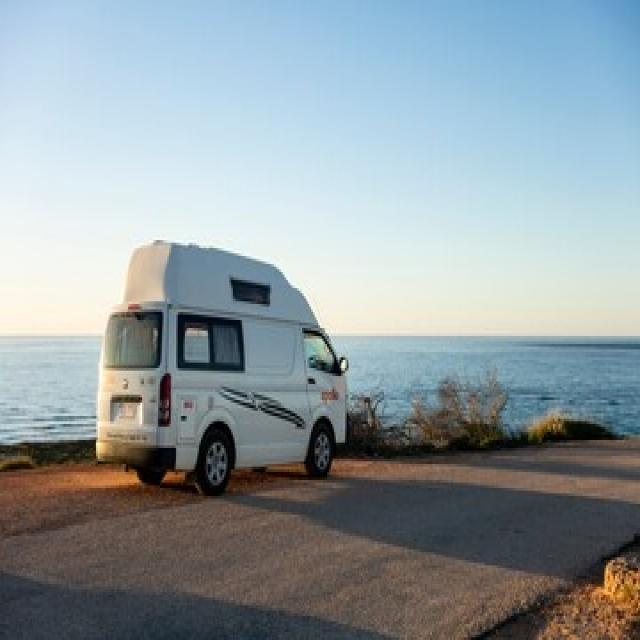van: (98, 240, 345, 493)
